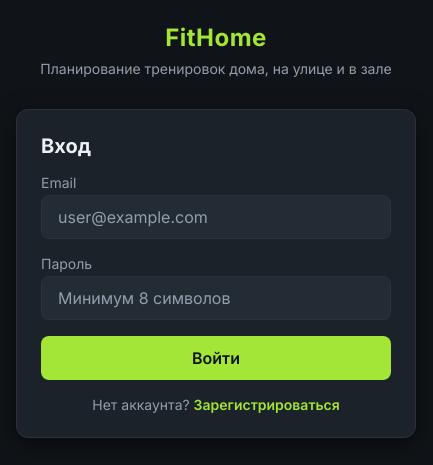
Test: LoginPage › показывает inline-ошибку при некорректном email и не отправляет запрос
Step 1. Type "not-an-email" into the field labelled "Email" → (216, 216), box [41,194,391,238]
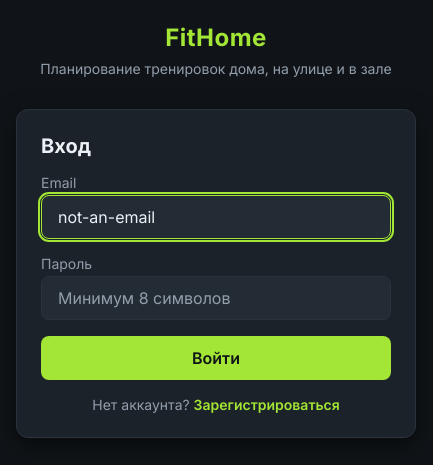
Step 2. Type "password123" into the password field labelled "Пароль" → (216, 298), box [41,276,391,320]
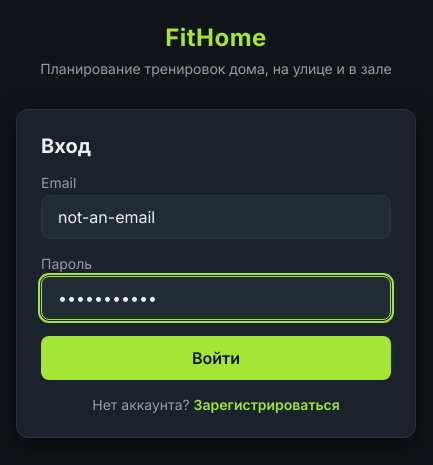
Step 3. Click the button "Войти" → (216, 358), box [41,336,391,380]
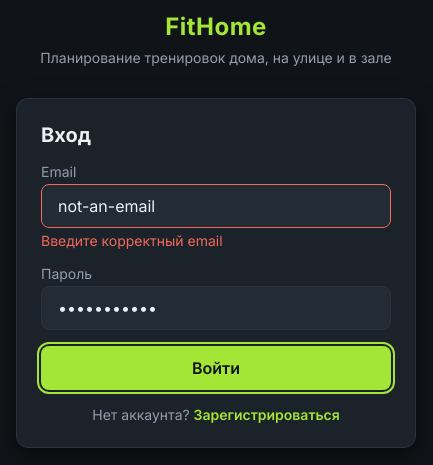
Now the text "Введите корректный email" is shown, box [41,232,223,249]
